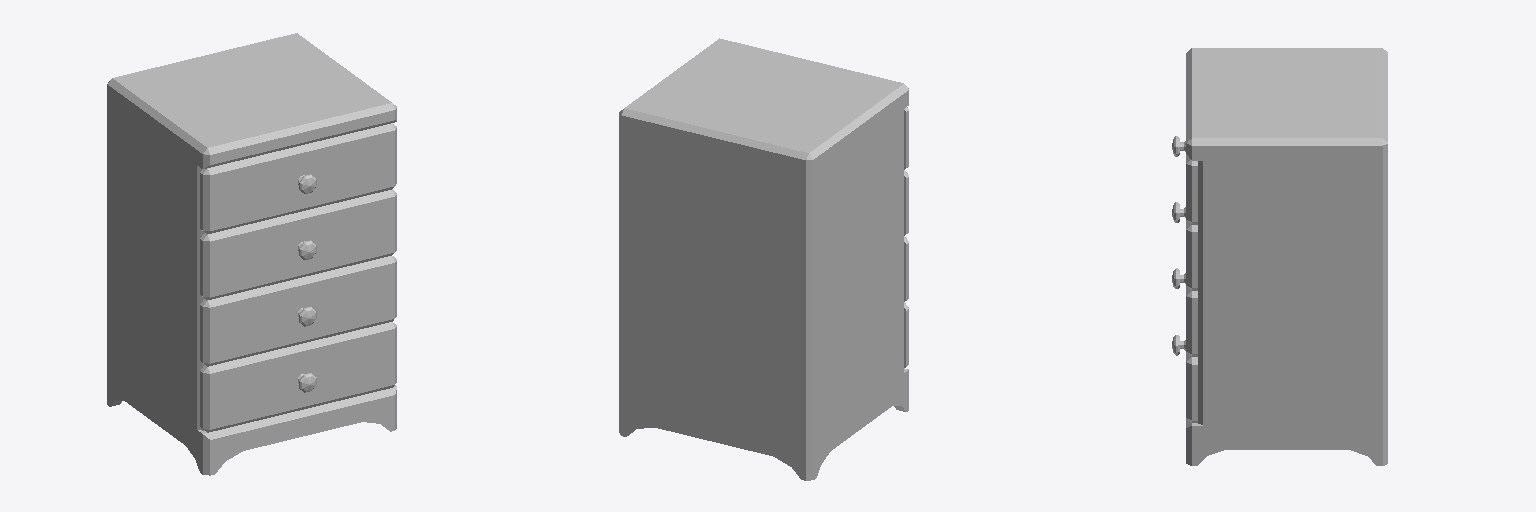
File: Prop_Bedroom_Dresser_Single_Tall.obj
3 renders of one model, left to right at view 1: azimuth 30°, elevation 25°; view 2: azimuth 150°, elevation 25°; view 3: azimuth 270°, elevation 25°, orthographic.
Visible parts, largest first — view 1: object2, object4, object3, object1, object5; view 2: object2; view 3: object2, object1, object3, object4, object5.
Boxes of the visible parts, <box> form: object2: <box>107,33,396,475</box>; object4: <box>200,256,396,366</box>; object3: <box>200,322,396,432</box>; object1: <box>200,189,396,299</box>; object5: <box>200,123,396,233</box>; object2: <box>619,38,908,480</box>; object2: <box>1186,48,1387,465</box>; object1: <box>1172,202,1197,290</box>; object3: <box>1172,335,1197,422</box>; object4: <box>1172,268,1197,356</box>; object5: <box>1172,136,1197,224</box>.
Size of the model in its own units: 1 by 1.6 by 0.9656.